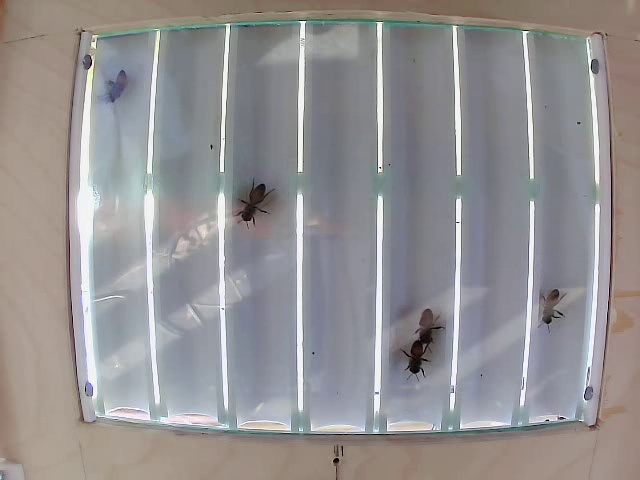bee: (537, 286, 567, 338), (235, 178, 274, 218), (95, 71, 134, 106), (411, 310, 444, 346), (403, 342, 430, 376)
